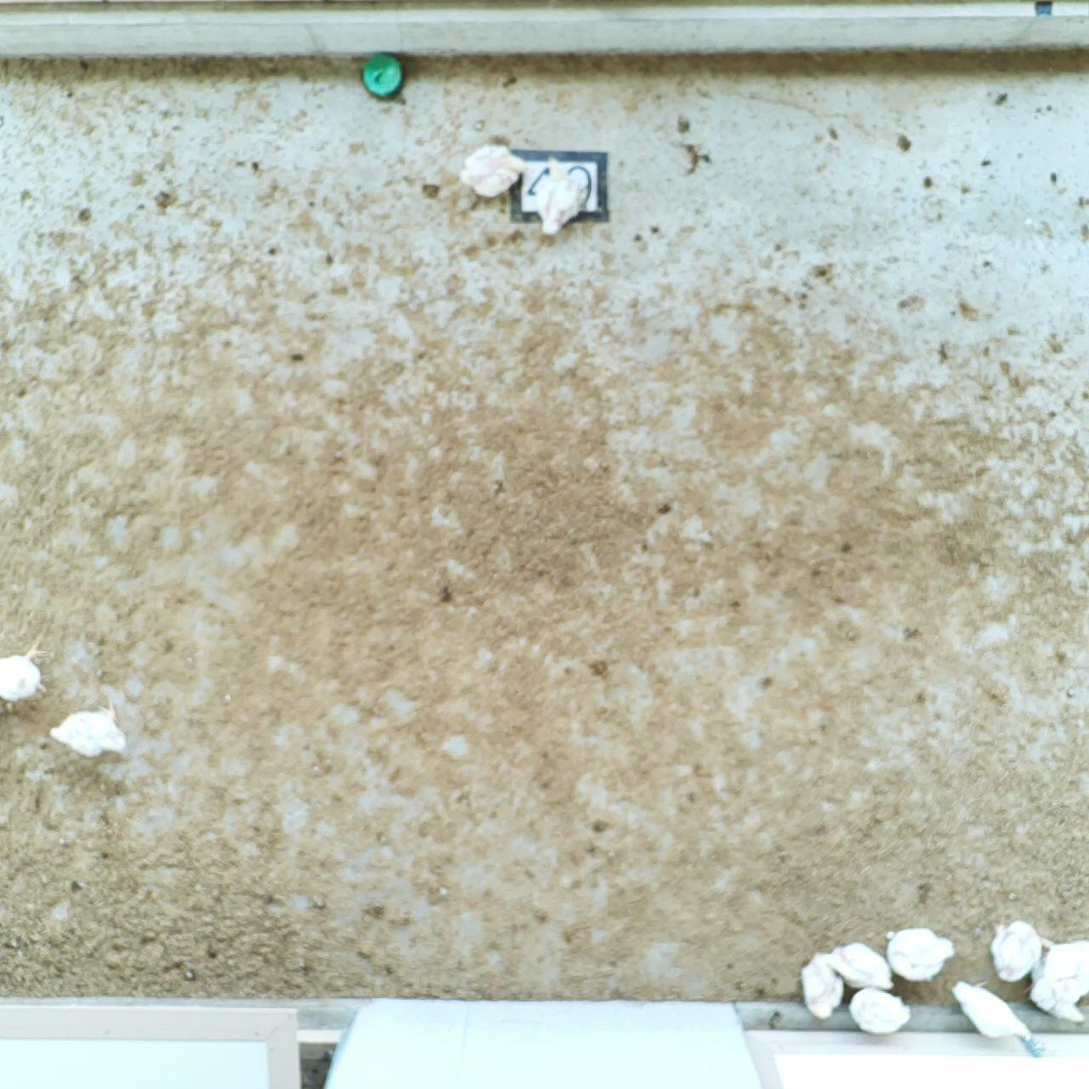chicken: (946, 975, 1040, 1057), (46, 690, 133, 763), (981, 908, 1058, 979), (531, 153, 591, 239), (881, 921, 962, 983), (454, 135, 532, 199), (0, 624, 54, 702), (796, 948, 847, 1024), (826, 939, 897, 989), (847, 985, 915, 1036), (1023, 978, 1089, 1025), (1042, 935, 1089, 993)
